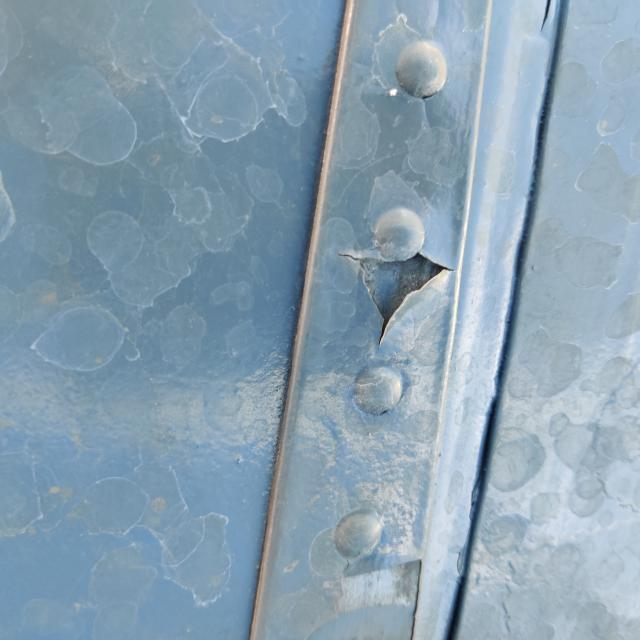paint-off: (324, 226, 467, 362)
